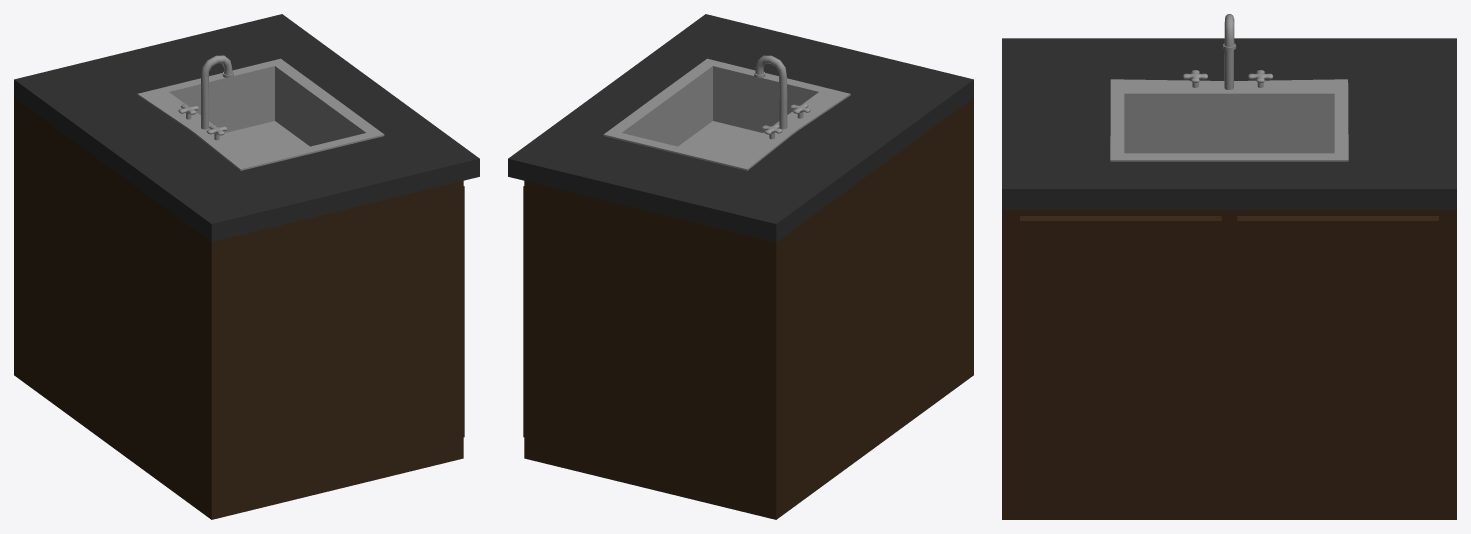
File: KitchenCabinet_Sink.FBX
3 views of the same model, side by side, from view 1: azimuth 30°, elevation 25°; view 2: azimuth 150°, elevation 25°; view 3: azimuth 270°, elevation 25° (orthographic). The views are drawn at different scales.
Parts seen in each view (by area): view 1: Box020; view 2: Box020; view 3: Box020.
Boxes of the visible parts, <box> form: Box020: <box>14,14,479,519</box>; Box020: <box>508,14,973,519</box>; Box020: <box>1002,14,1456,519</box>.
Size of the model in its own units: 30.92 by 40.33 by 39.47.
